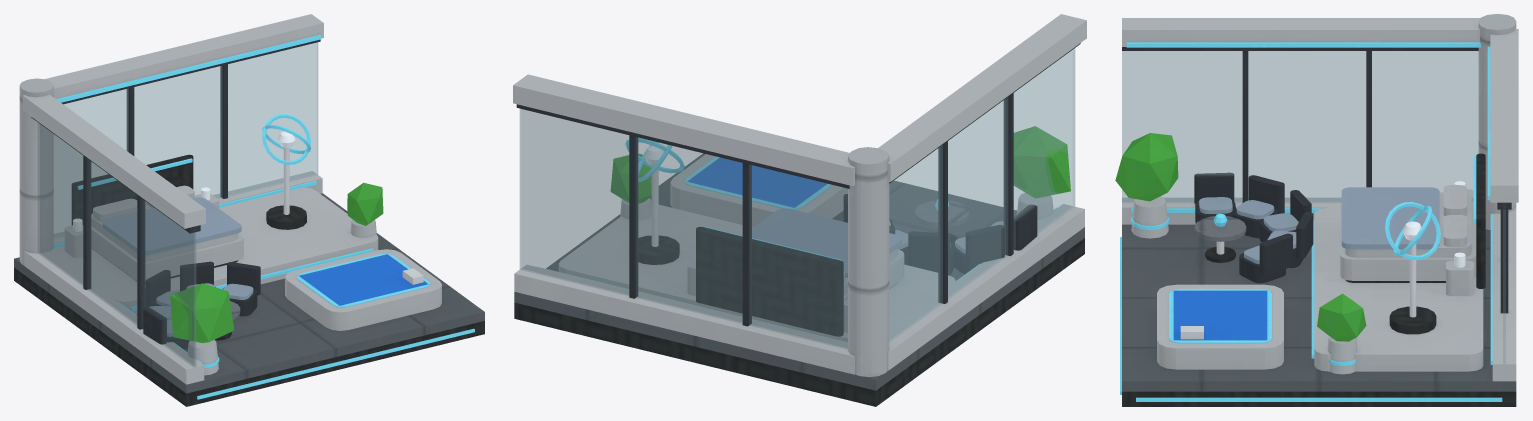
The model's file is enterprise_habitat_t5.glb.
The picture shows the model from 3 angles, left to right: view 1: azimuth 30°, elevation 25°; view 2: azimuth 150°, elevation 25°; view 3: azimuth 270°, elevation 25°; orthographic projection. The views are drawn at different scales.
Parts seen in each view (by area): view 1: te_enterprise_habitat_t5; view 2: te_enterprise_habitat_t5; view 3: te_enterprise_habitat_t5.
Boxes of the visible parts, left/top/right/bottom form: te_enterprise_habitat_t5: left=14, top=14, right=484, bottom=406; te_enterprise_habitat_t5: left=513, top=14, right=1086, bottom=406; te_enterprise_habitat_t5: left=1115, top=14, right=1518, bottom=406.
Size of the model in its own units: 0.849 by 0.532 by 0.859.
2 materials, 1 textured.
